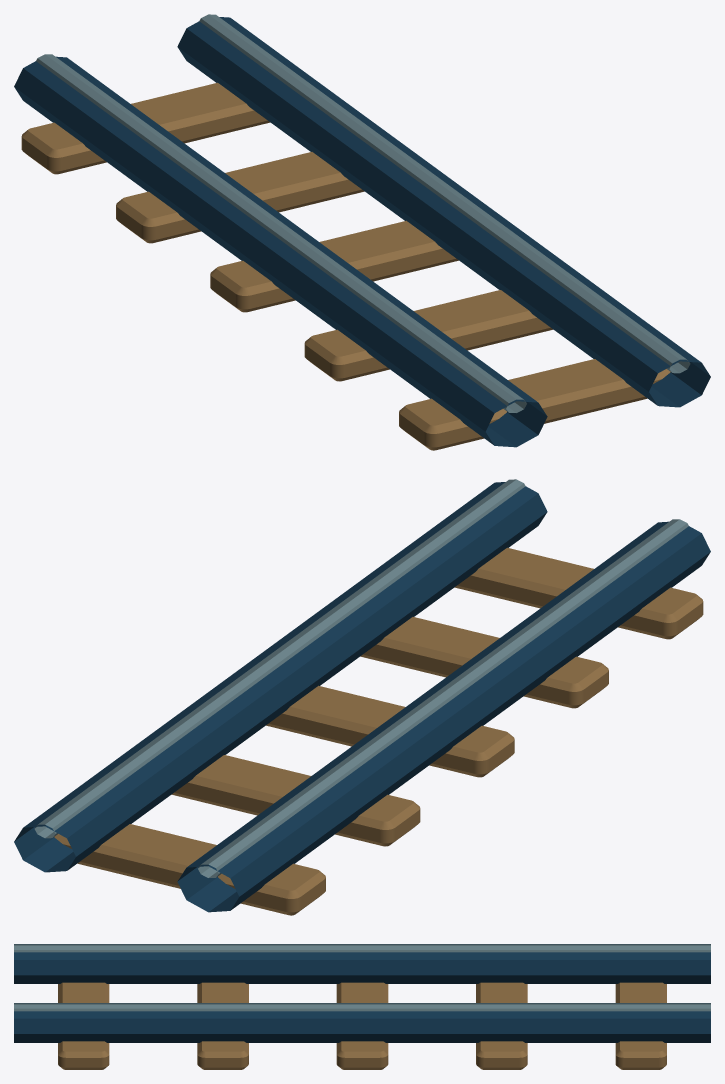
Rendered from voie_droite.glb.
3 views of the same model, one above another, from view 1: azimuth 30°, elevation 25°; view 2: azimuth 150°, elevation 25°; view 3: azimuth 270°, elevation 25° (orthographic). The views are drawn at different scales.
Visible parts, largest first — view 1: Batch_PaintedMetal, Batch_HoneyWood, Batch_RailGlint; view 2: Batch_PaintedMetal, Batch_HoneyWood, Batch_RailGlint; view 3: Batch_PaintedMetal, Batch_HoneyWood, Batch_RailGlint.
Part boxes in pixels (x1,y1,x2,y2): Batch_PaintedMetal: (14, 17, 710, 447); Batch_HoneyWood: (21, 82, 670, 450); Batch_RailGlint: (36, 14, 690, 412); Batch_PaintedMetal: (14, 482, 710, 912); Batch_HoneyWood: (54, 547, 703, 915); Batch_RailGlint: (34, 479, 688, 877); Batch_PaintedMetal: (14, 944, 710, 1042); Batch_HoneyWood: (58, 982, 666, 1069); Batch_RailGlint: (14, 944, 710, 1011).
Bounding box in the file's own units: 0.34 × 0.074 × 1.
